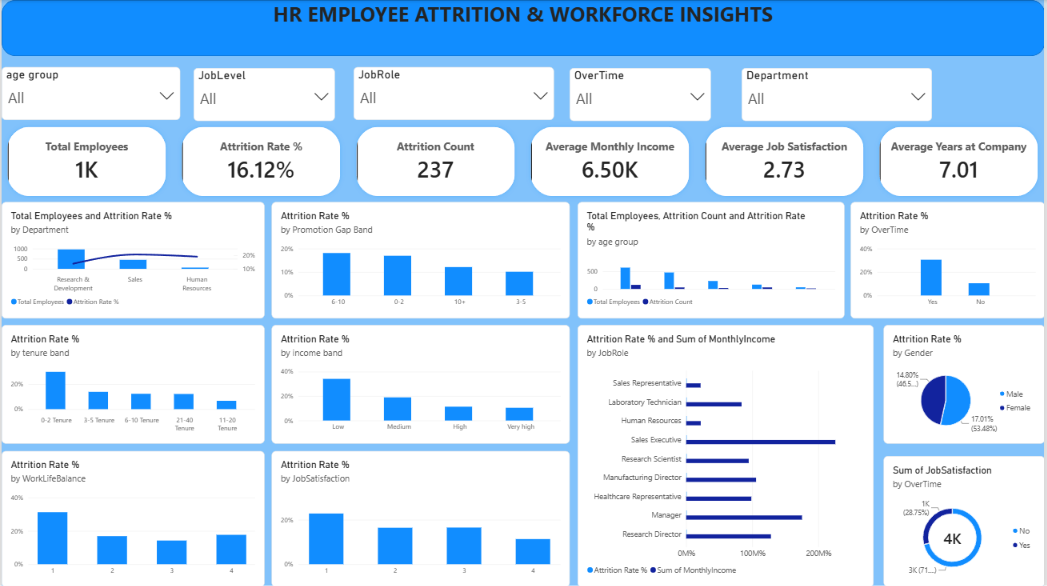

The page's visual inventory and layout, read from the dashboard file:
{"tool":"powerbi","page":{"name":"DASHBAORD","canvas":[1920,1080],"ordinal":1},"visuals":[{"type":"textbox","box":[0,413,195,256],"z":0},{"type":"cardVisual","fields":{"Data":["WA_Fn-UseC_-HR-Employee-Attrition.Total Employees","WA_Fn-UseC_-HR-Employee-Attrition.Attrition Rate %","WA_Fn-UseC_-HR-Employee-Attrition.Attrition Count","WA_Fn-UseC_-HR-Employee-Attrition.Average Monthly Income","WA_Fn-UseC_-HR-Employee-Attrition.Average Job Satisfaction","WA_Fn-UseC_-HR-Employee-Attrition.Average Years at Company"]},"box":[0,221.9,1920.4,149.2],"z":1000},{"type":"slicer","fields":{"Values":["WA_Fn-UseC_-HR-Employee-Attrition.JobLevel"]},"box":[353.9,124.3,260.1,97.5],"z":2000},{"type":"slicer","fields":{"Values":["WA_Fn-UseC_-HR-Employee-Attrition.age group"]},"box":[0,122.4,329,97.5],"z":3000},{"type":"slicer","fields":{"Values":["WA_Fn-UseC_-HR-Employee-Attrition.JobRole"]},"box":[648.4,122.4,369.2,97.5],"z":4000},{"type":"slicer","fields":{"Values":["WA_Fn-UseC_-HR-Employee-Attrition.OverTime"]},"box":[1046.3,124.3,260.1,97.5],"z":5000},{"type":"slicer","fields":{"Values":["WA_Fn-UseC_-HR-Employee-Attrition.Department"]},"box":[1361.9,124.3,350,97.5],"z":6000},{"type":"shape","box":[0,0,1920.4,103.3],"z":7000},{"type":"lineClusteredColumnComboChart","fields":{"Category":["WA_Fn-UseC_-HR-Employee-Attrition.Department"],"Y":["WA_Fn-UseC_-HR-Employee-Attrition.Total Employees"],"Y2":["WA_Fn-UseC_-HR-Employee-Attrition.Attrition Rate %"]},"box":[0,371.1,483.9,214.2],"z":8000},{"type":"clusteredBarChart","fields":{"Category":["WA_Fn-UseC_-HR-Employee-Attrition.JobRole"],"Y":["WA_Fn-UseC_-HR-Employee-Attrition.Attrition Rate %","Sum(WA_Fn-UseC_-HR-Employee-Attrition.MonthlyIncome)"]},"box":[1059.7,598.7,545.1,482],"z":9000},{"type":"clusteredColumnChart","fields":{"Category":["WA_Fn-UseC_-HR-Employee-Attrition.age group"],"Y":["WA_Fn-UseC_-HR-Employee-Attrition.Total Employees","WA_Fn-UseC_-HR-Employee-Attrition.Attrition Count"]},"box":[1059.7,371.1,491.6,214.2],"z":10000},{"type":"columnChart","fields":{"Category":["WA_Fn-UseC_-HR-Employee-Attrition.OverTime"],"Y":["WA_Fn-UseC_-HR-Employee-Attrition.Attrition Rate %"]},"box":[1562.7,371.1,357.7,214.2],"z":11000},{"type":"columnChart","fields":{"Category":["WA_Fn-UseC_-HR-Employee-Attrition.Promotion Gap Band"],"Y":["WA_Fn-UseC_-HR-Employee-Attrition.Attrition Rate %"]},"box":[497.3,371.1,549,214.2],"z":12000},{"type":"columnChart","fields":{"Category":["WA_Fn-UseC_-HR-Employee-Attrition.WorkLifeBalance"],"Y":["WA_Fn-UseC_-HR-Employee-Attrition.Attrition Rate %"]},"box":[0,830.1,483.9,250.6],"z":13000},{"type":"columnChart","fields":{"Category":["WA_Fn-UseC_-HR-Employee-Attrition.tenure band"],"Y":["WA_Fn-UseC_-HR-Employee-Attrition.Attrition Rate %"]},"box":[0,598.7,483.9,218.1],"z":14000},{"type":"columnChart","fields":{"Category":["WA_Fn-UseC_-HR-Employee-Attrition.income band"],"Y":["WA_Fn-UseC_-HR-Employee-Attrition.Attrition Rate %"]},"box":[497.3,598.7,549,218],"z":15000},{"type":"columnChart","fields":{"Category":["WA_Fn-UseC_-HR-Employee-Attrition.JobSatisfaction"],"Y":["WA_Fn-UseC_-HR-Employee-Attrition.Attrition Rate %"]},"box":[497.3,830.1,549,250.6],"z":16000},{"type":"pieChart","fields":{"Category":["WA_Fn-UseC_-HR-Employee-Attrition.Gender"],"Y":["WA_Fn-UseC_-HR-Employee-Attrition.Attrition Rate %"]},"box":[1623.9,598.7,296.5,218.1],"z":17000},{"type":"donutChart","fields":{"Category":["WA_Fn-UseC_-HR-Employee-Attrition.OverTime"],"Y":["Sum(WA_Fn-UseC_-HR-Employee-Attrition.JobSatisfaction)"]},"box":[1623.9,839.7,296.5,241],"z":18000},{"type":"textbox","box":[0,0,1919.6,123.3],"z":19000}]}

Visuals, with their boxes in screenshot pixels (x1, y1, x2, y2), scaled from the page's 1920x1080 canvas onto the 1047x586 screenshot:
textbox: x1=0, y1=224, x2=106, y2=363
cardVisual - WA_Fn-UseC_-HR-Employee-Attrition.Total Employees x WA_Fn-UseC_-HR-Employee-Attrition.Attrition Rate %: x1=0, y1=120, x2=1046, y2=201
slicer - WA_Fn-UseC_-HR-Employee-Attrition.JobLevel: x1=193, y1=67, x2=335, y2=120
slicer - WA_Fn-UseC_-HR-Employee-Attrition.age group: x1=0, y1=66, x2=179, y2=119
slicer - WA_Fn-UseC_-HR-Employee-Attrition.JobRole: x1=354, y1=66, x2=555, y2=119
slicer - WA_Fn-UseC_-HR-Employee-Attrition.OverTime: x1=571, y1=67, x2=712, y2=120
slicer - WA_Fn-UseC_-HR-Employee-Attrition.Department: x1=743, y1=67, x2=934, y2=120
shape: x1=0, y1=0, x2=1046, y2=56
lineClusteredColumnComboChart - WA_Fn-UseC_-HR-Employee-Attrition.Department x WA_Fn-UseC_-HR-Employee-Attrition.Total Employees: x1=0, y1=201, x2=264, y2=318
clusteredBarChart - WA_Fn-UseC_-HR-Employee-Attrition.JobRole x WA_Fn-UseC_-HR-Employee-Attrition.Attrition Rate %: x1=578, y1=325, x2=875, y2=585
clusteredColumnChart - WA_Fn-UseC_-HR-Employee-Attrition.age group x WA_Fn-UseC_-HR-Employee-Attrition.Total Employees: x1=578, y1=201, x2=846, y2=318
columnChart - WA_Fn-UseC_-HR-Employee-Attrition.OverTime x WA_Fn-UseC_-HR-Employee-Attrition.Attrition Rate %: x1=852, y1=201, x2=1046, y2=318
columnChart - WA_Fn-UseC_-HR-Employee-Attrition.Promotion Gap Band x WA_Fn-UseC_-HR-Employee-Attrition.Attrition Rate %: x1=271, y1=201, x2=571, y2=318
columnChart - WA_Fn-UseC_-HR-Employee-Attrition.WorkLifeBalance x WA_Fn-UseC_-HR-Employee-Attrition.Attrition Rate %: x1=0, y1=450, x2=264, y2=585
columnChart - WA_Fn-UseC_-HR-Employee-Attrition.tenure band x WA_Fn-UseC_-HR-Employee-Attrition.Attrition Rate %: x1=0, y1=325, x2=264, y2=443
columnChart - WA_Fn-UseC_-HR-Employee-Attrition.income band x WA_Fn-UseC_-HR-Employee-Attrition.Attrition Rate %: x1=271, y1=325, x2=571, y2=443
columnChart - WA_Fn-UseC_-HR-Employee-Attrition.JobSatisfaction x WA_Fn-UseC_-HR-Employee-Attrition.Attrition Rate %: x1=271, y1=450, x2=571, y2=585
pieChart - WA_Fn-UseC_-HR-Employee-Attrition.Gender x WA_Fn-UseC_-HR-Employee-Attrition.Attrition Rate %: x1=886, y1=325, x2=1046, y2=443
donutChart - WA_Fn-UseC_-HR-Employee-Attrition.OverTime x Sum(WA_Fn-UseC_-HR-Employee-Attrition.JobSatisfaction): x1=886, y1=456, x2=1046, y2=585
textbox: x1=0, y1=0, x2=1046, y2=67
